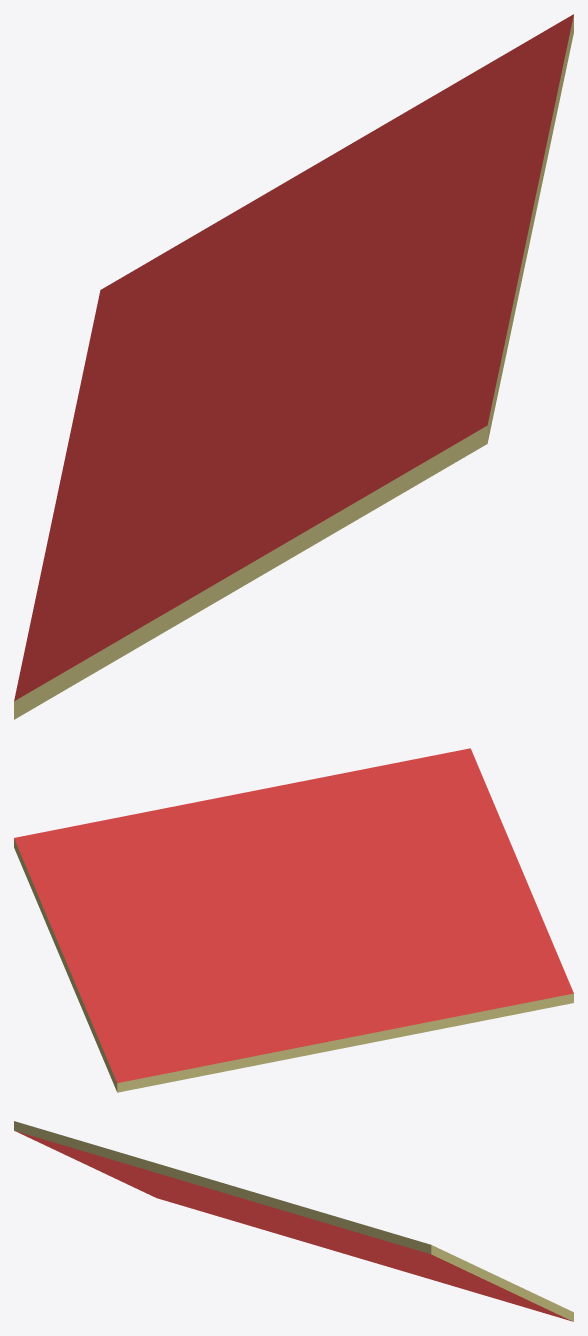
3 renders of one model, top to bottom at view 1: azimuth 30°, elevation 25°; view 2: azimuth 150°, elevation 25°; view 3: azimuth 270°, elevation 25°, orthographic. The views are drawn at different scales.
Size of the model in its own units: 4.66 by 5.26 by 1.69.
